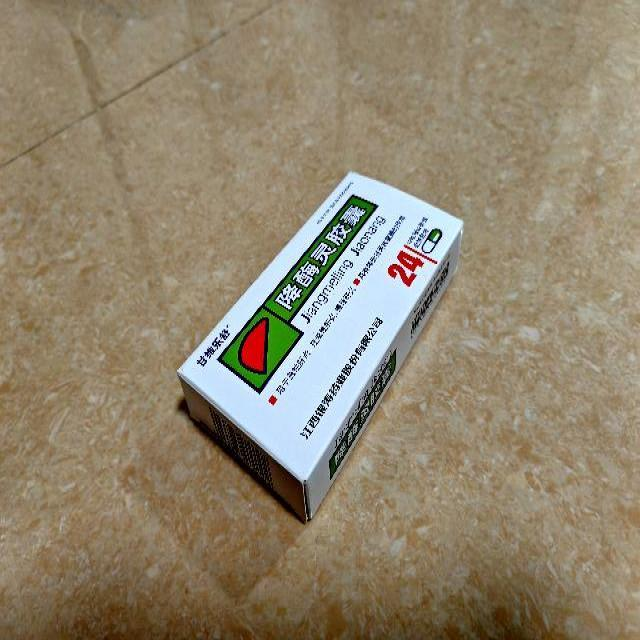box: (177, 170, 463, 522)
